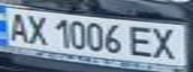0: (84, 19, 106, 53), (66, 17, 87, 51)
1: (48, 16, 72, 48)
6: (103, 21, 130, 55)
A: (3, 9, 30, 43)
E: (127, 22, 160, 58)
X: (148, 25, 187, 61), (24, 11, 51, 47)
